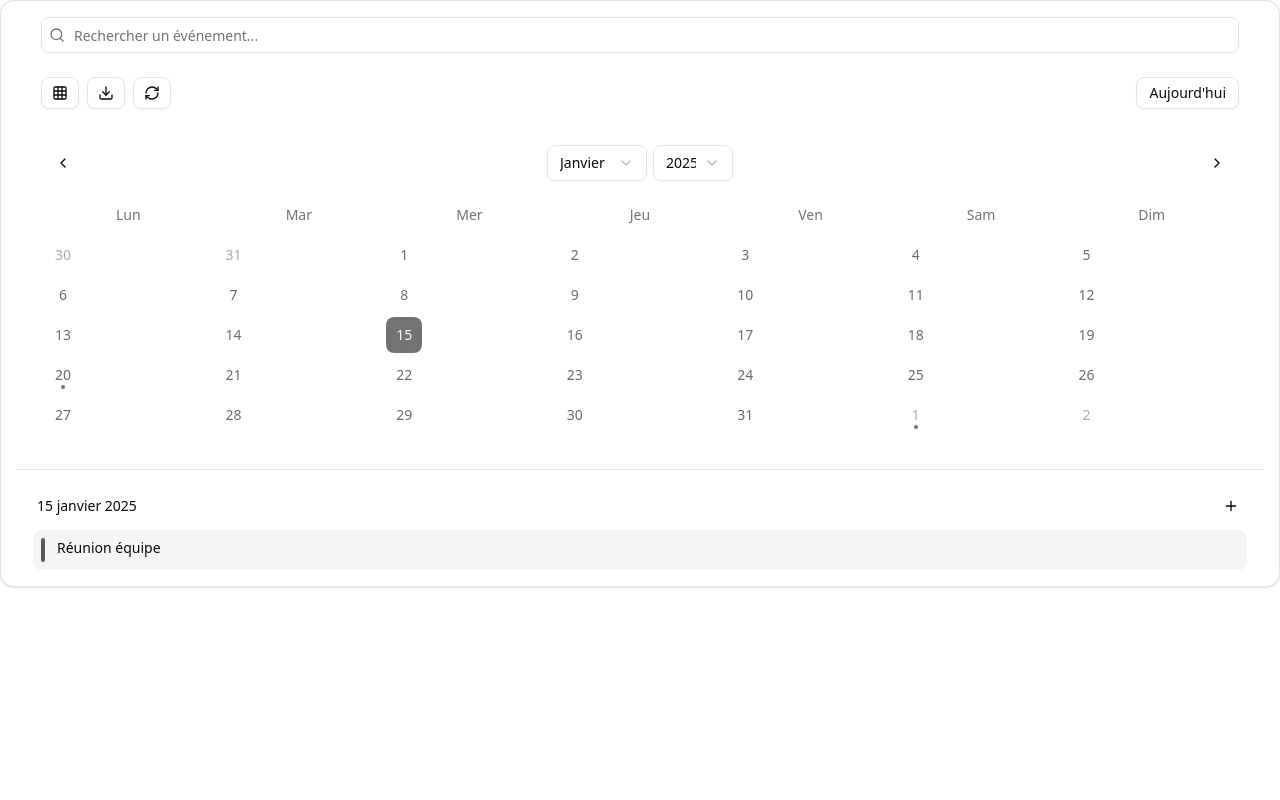
it: CalendarWidget - Recherche d'événements › affiche 'Aucun événement trouvé' quand aucun résultat
In the field with placeholder "Rechercher un événement...": coordinates (640, 35) [41,17,1239,53], type "Inexistant"
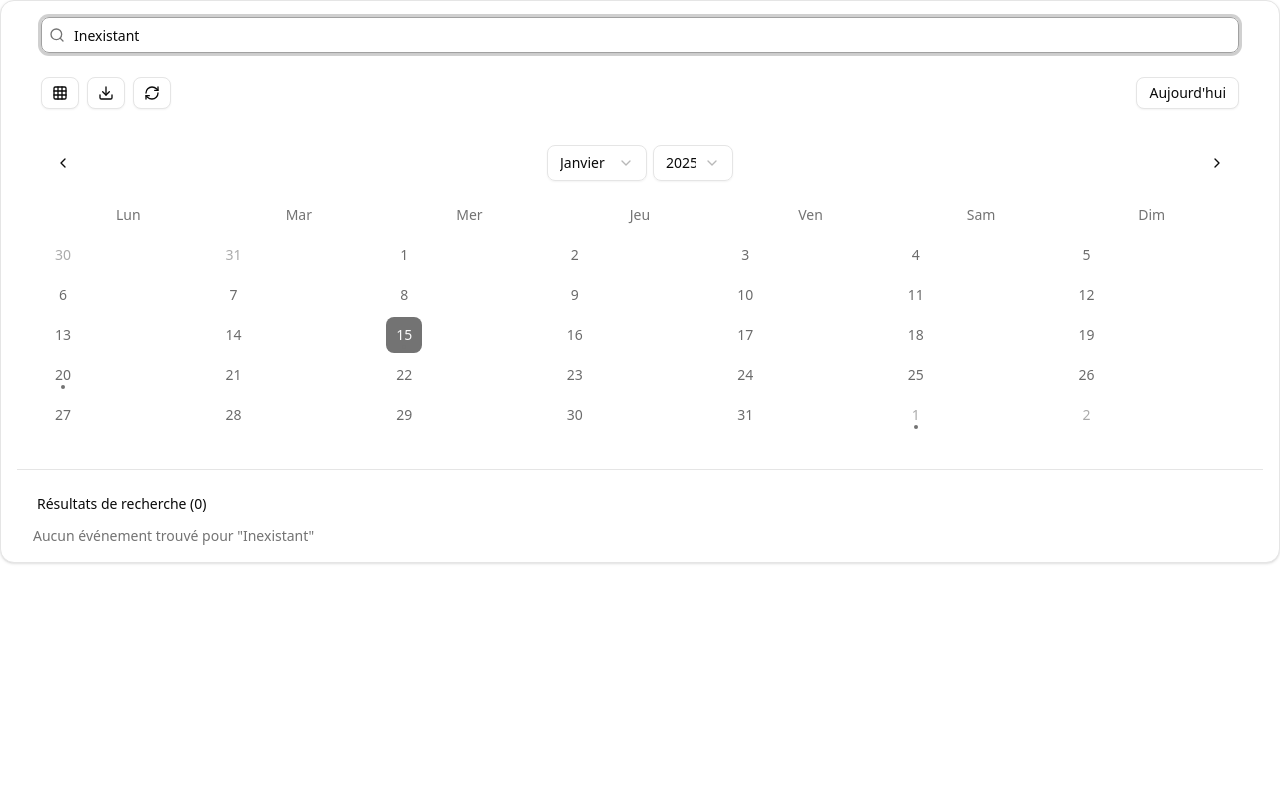
expect the text "Aucun événement trouvé pour \"Inexistant\"" is shown: met, box [33,526,314,546]
